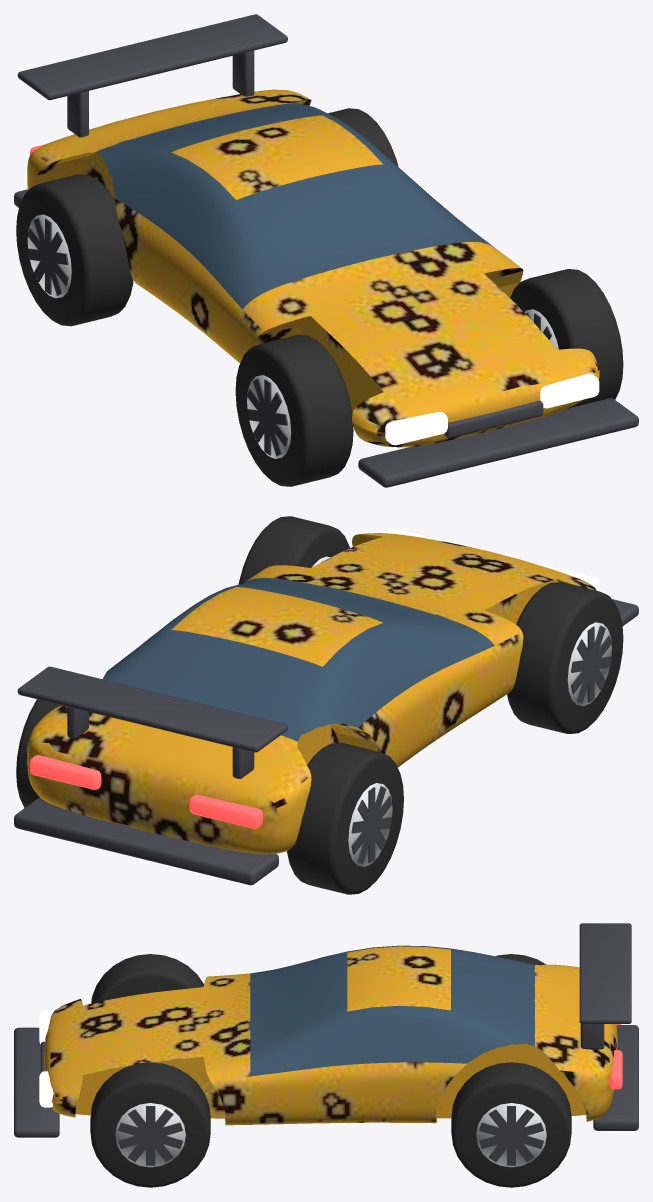
The model's file is cheetah-gt.glb.
3 renders of one model, top to bottom at view 1: azimuth 30°, elevation 25°; view 2: azimuth 150°, elevation 25°; view 3: azimuth 270°, elevation 25°, orthographic. The views are drawn at different scales.
Parts seen in each view (by area): view 1: body, wheel-front-left, wheel-back-left, wheel-front-right, wheel-back-right; view 2: body, wheel-front-left, wheel-back-left, wheel-front-right, wheel-back-right; view 3: body, wheel-front-right, wheel-back-right, wheel-front-left.
Boxes of the visible parts, <box> form: body: <box>14,14,638,487</box>; wheel-front-left: <box>235,334,353,486</box>; wheel-back-left: <box>16,174,133,326</box>; wheel-front-right: <box>510,269,623,408</box>; wheel-back-right: <box>328,108,398,166</box>; body: <box>14,529,638,885</box>; wheel-front-left: <box>507,582,623,733</box>; wheel-back-left: <box>287,742,403,894</box>; wheel-front-right: <box>238,516,349,584</box>; wheel-back-right: <box>16,699,61,807</box>; body: <box>14,923,638,1137</box>; wheel-front-right: <box>90,1062,210,1187</box>; wheel-back-right: <box>451,1062,571,1187</box>; wheel-front-left: <box>91,954,204,1003</box>.
Size of the model in its own units: 2.36 by 1.3 by 4.78.
7 materials, 1 textured.
